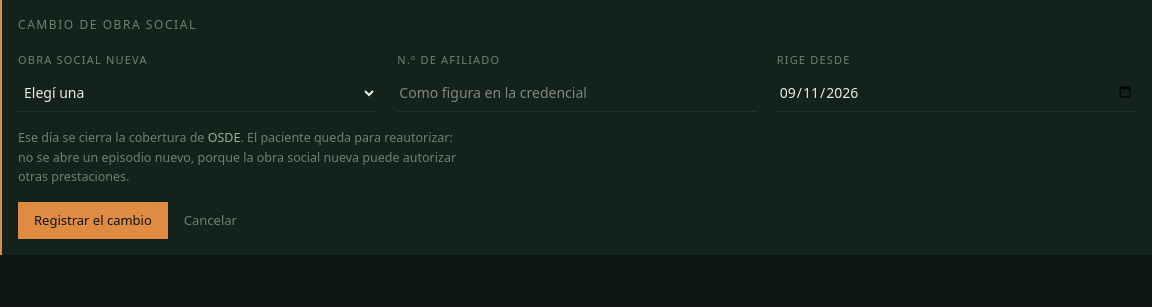
Test: change insurance provider › shows the backend message when the member number belongs to someone else
Select "Swiss Medical" in the dropdown labelled "Obra social nueva": (198, 93) [18,74,377,112]
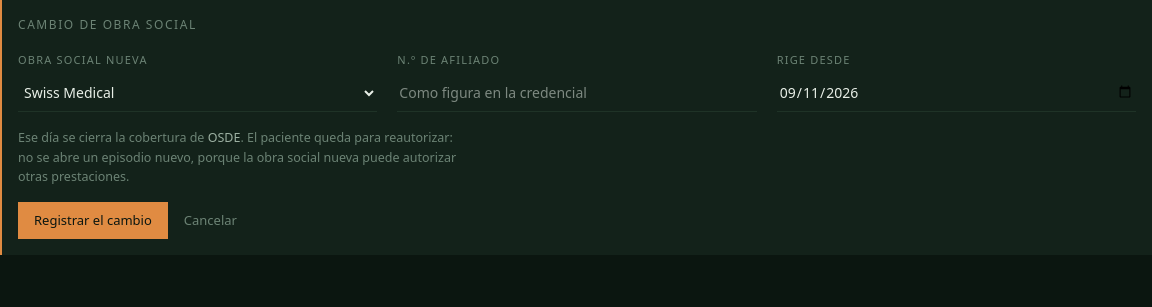
In the field labelled "N.º de afiliado": (577, 93) [397,74,757,112], type "  4400  "
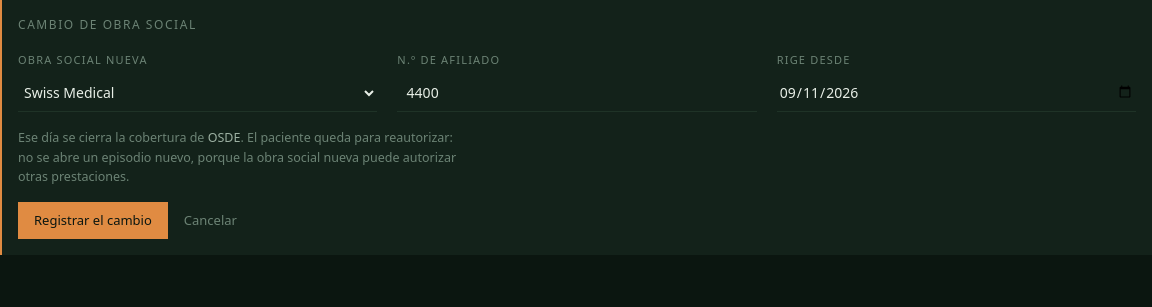
Click the button "Registrar el cambio": (93, 221) [18,202,168,239]
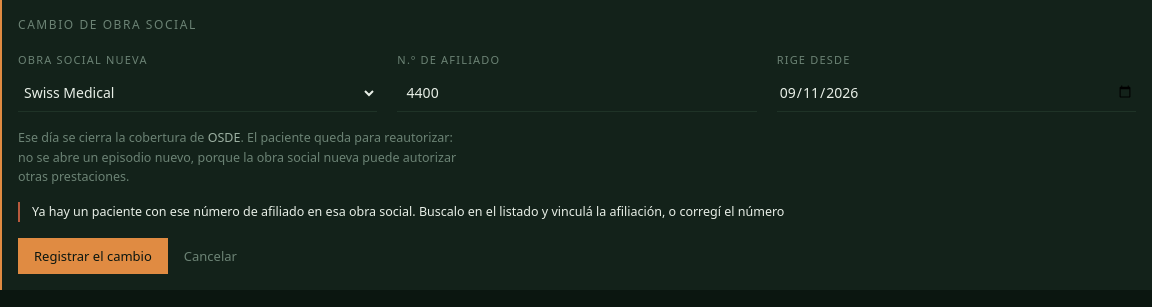
Now the text "Buscalo en el listado y vinculá la afiliación" is shown, box [32,204,784,220]
